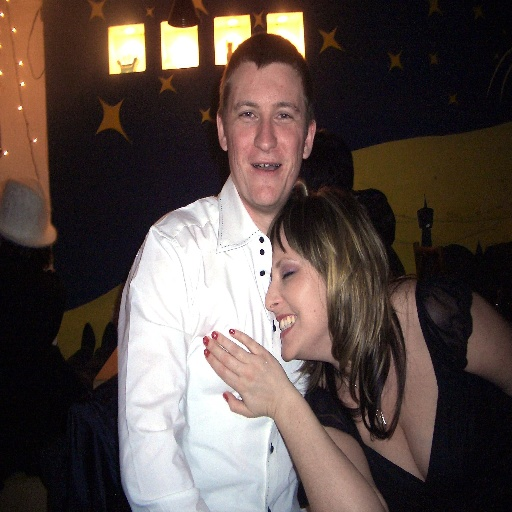hand: (205, 327, 299, 426)
